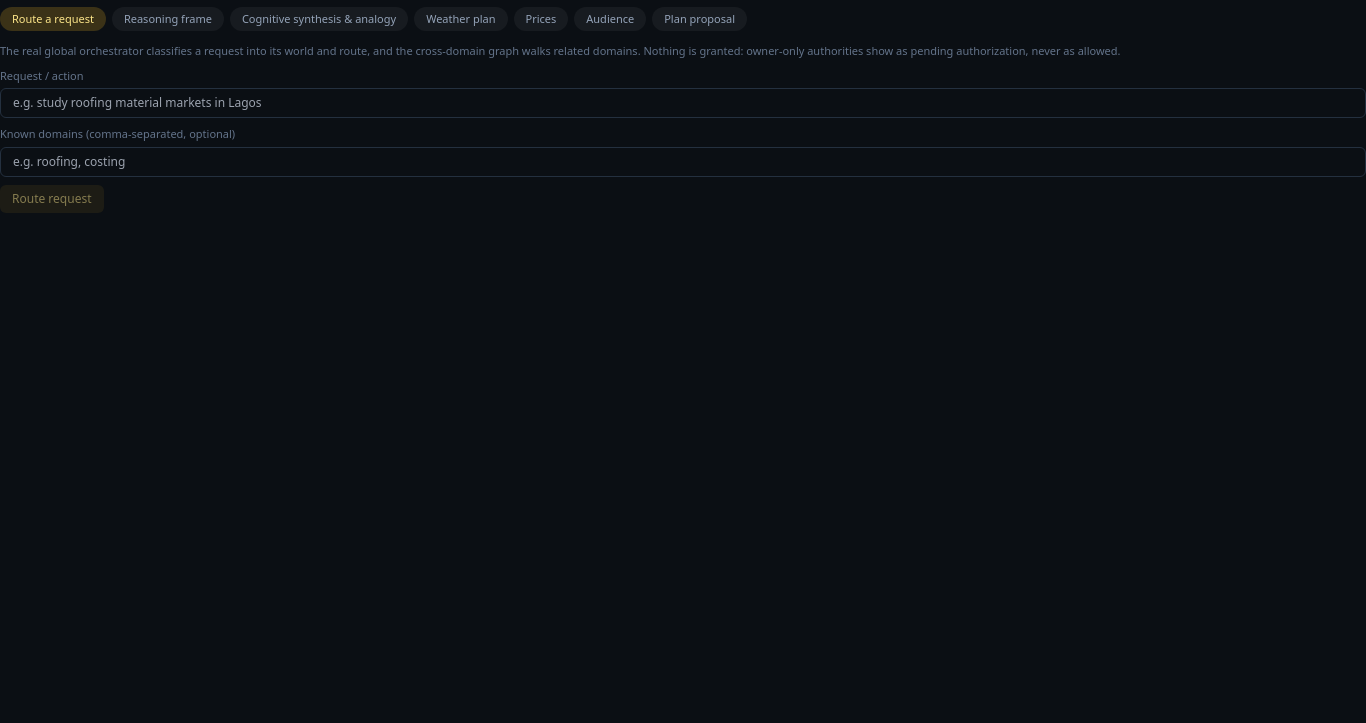
Test: DomainReasoning › the reasoning frame enforces evidence (anti-fabrication)
Click the tab "Reasoning frame".
click(168, 19)  # box [112, 6, 224, 31]
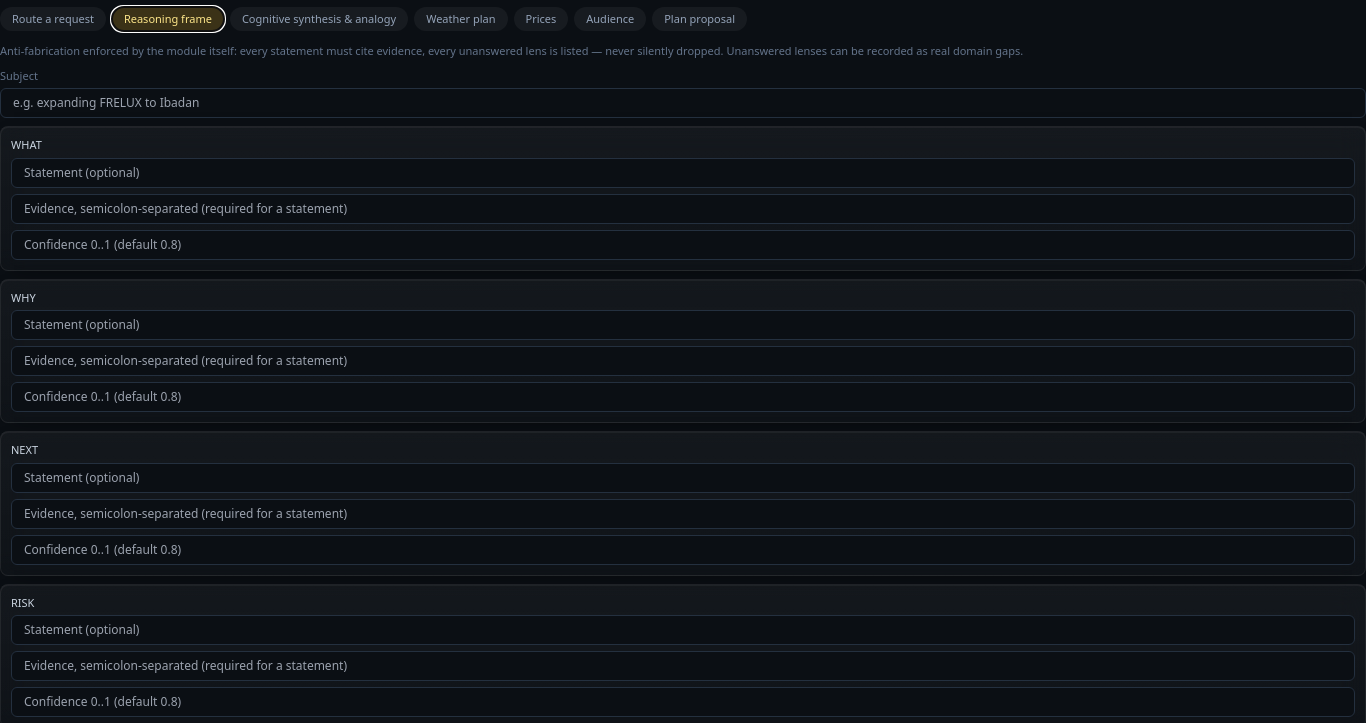
Type "expanding to Ibadan" into the field named "Reasoning subject".
click(683, 103); type("expanding to Ibadan")  # box [0, 88, 1365, 118]
(page scrolled)
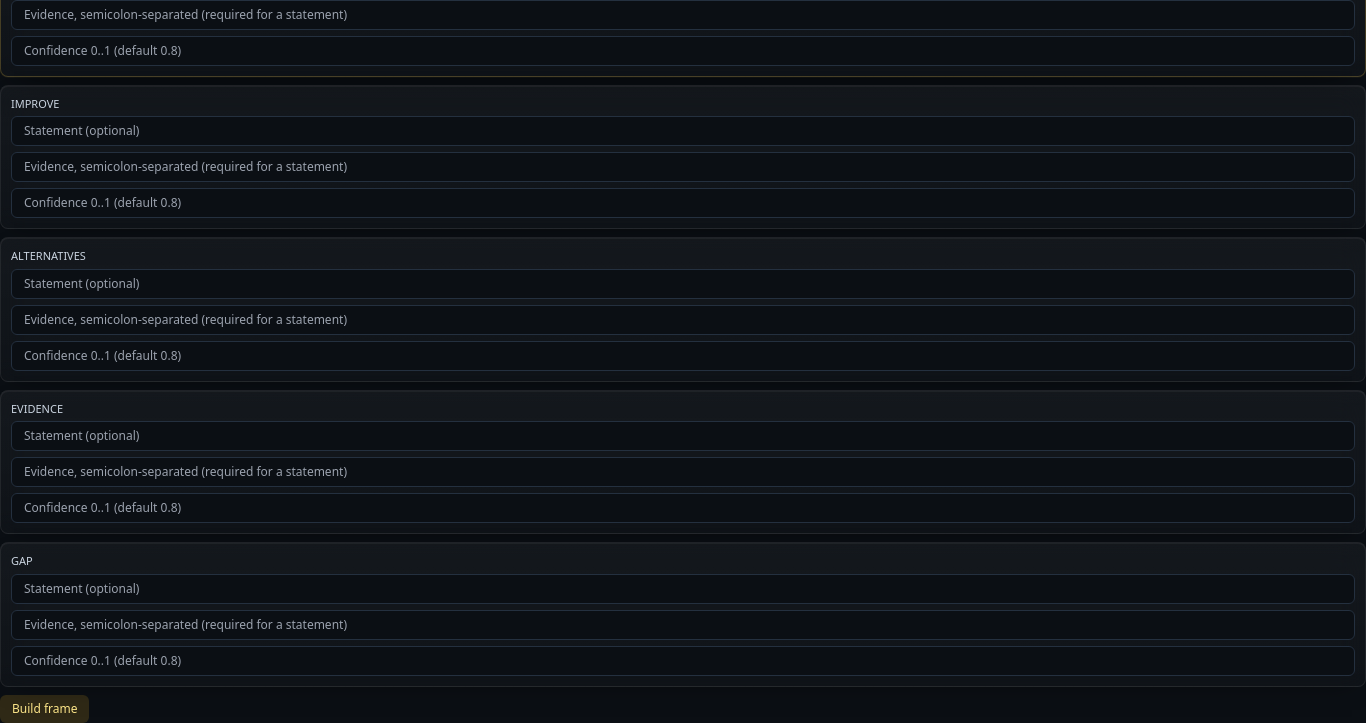
Click the button "Build frame".
click(45, 708)  # box [0, 694, 90, 722]
(page scrolled)
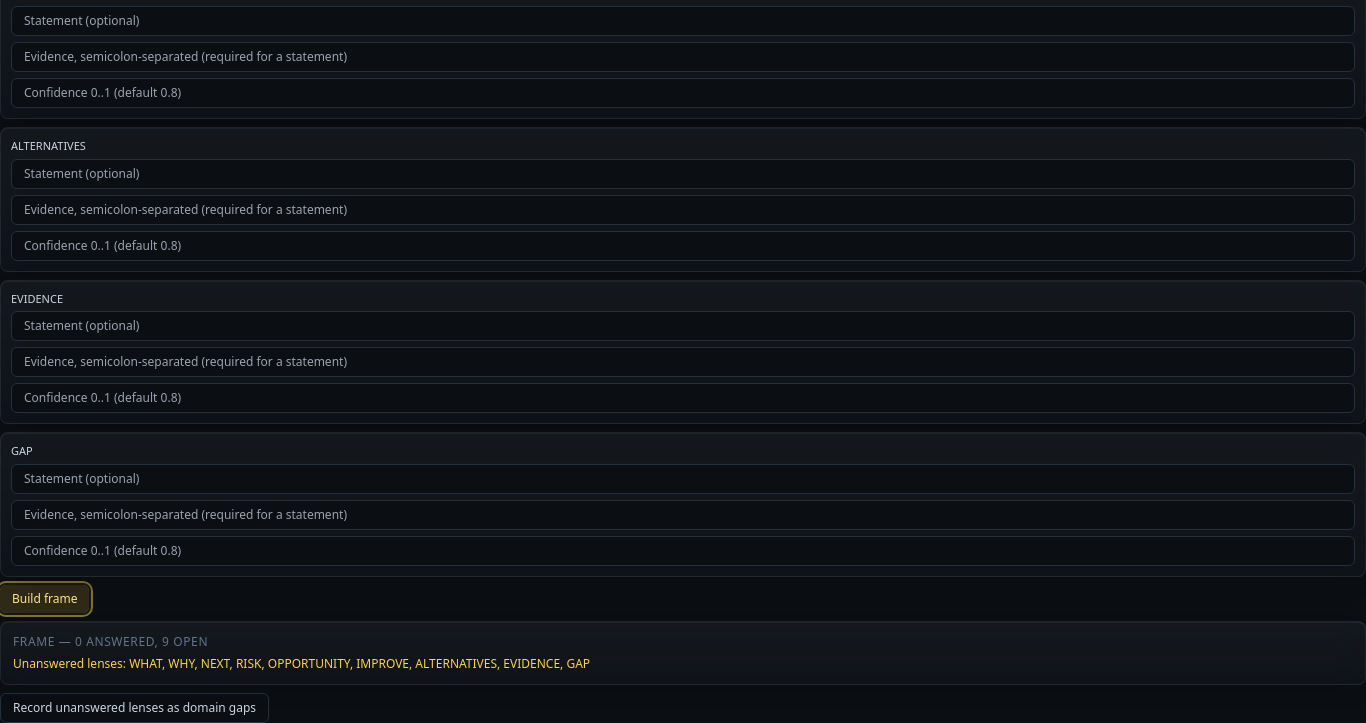
Now the text "Frame — 0 answered, 9 open" is shown, box [13, 632, 208, 650]
Now the text "Unanswered lenses:" is shown, box [13, 654, 129, 672]
